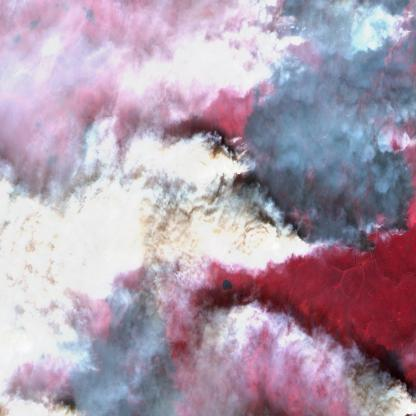fire: (306, 232, 375, 264), (366, 207, 415, 248), (230, 133, 256, 175), (396, 6, 416, 47)
